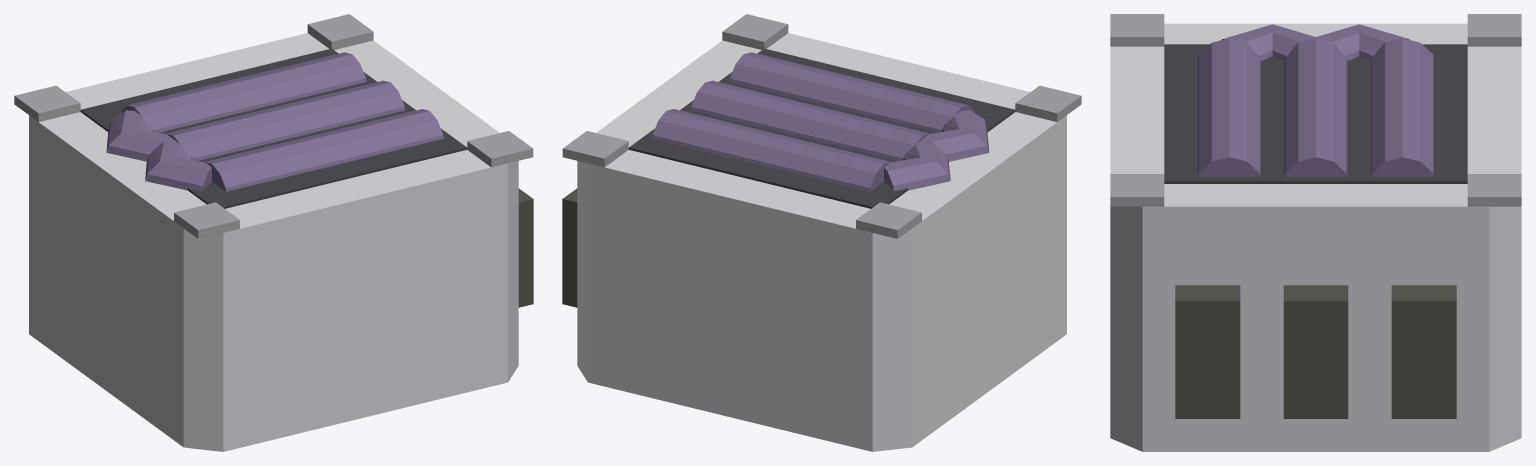
The model's file is vge_astrofuel_pod_launcher.obj.
3 views of the same model, side by side, from view 1: azimuth 30°, elevation 25°; view 2: azimuth 150°, elevation 25°; view 3: azimuth 270°, elevation 25° (orthographic). The views are drawn at different scales.
Parts seen in each view (by area): view 1: vge_astrofuel_pod_launcher_0, vge_astrofuel_pod_launcher_1, vge_astrofuel_pod_launcher_6, vge_astrofuel_pod_launcher_8, vge_astrofuel_pod_launcher_7, vge_astrofuel_pod_launcher_9, vge_astrofuel_pod_launcher_10, vge_astrofuel_pod_launcher_11, vge_astrofuel_pod_launcher_3, vge_astrofuel_pod_launcher_4, vge_astrofuel_pod_launcher_5, vge_astrofuel_pod_launcher_2; view 2: vge_astrofuel_pod_launcher_0, vge_astrofuel_pod_launcher_1, vge_astrofuel_pod_launcher_8, vge_astrofuel_pod_launcher_6, vge_astrofuel_pod_launcher_7, vge_astrofuel_pod_launcher_10, vge_astrofuel_pod_launcher_9, vge_astrofuel_pod_launcher_13, vge_astrofuel_pod_launcher_2, vge_astrofuel_pod_launcher_5, vge_astrofuel_pod_launcher_4, vge_astrofuel_pod_launcher_3; view 3: vge_astrofuel_pod_launcher_0, vge_astrofuel_pod_launcher_1, vge_astrofuel_pod_launcher_11, vge_astrofuel_pod_launcher_12, vge_astrofuel_pod_launcher_13, vge_astrofuel_pod_launcher_7, vge_astrofuel_pod_launcher_8, vge_astrofuel_pod_launcher_6, vge_astrofuel_pod_launcher_2, vge_astrofuel_pod_launcher_3, vge_astrofuel_pod_launcher_4, vge_astrofuel_pod_launcher_5 (+2 smaller).
Boxes of the visible parts, <box> form: vge_astrofuel_pod_launcher_0: <box>29,33,518,451</box>; vge_astrofuel_pod_launcher_1: <box>80,48,467,208</box>; vge_astrofuel_pod_launcher_6: <box>204,109,443,191</box>; vge_astrofuel_pod_launcher_8: <box>121,52,366,132</box>; vge_astrofuel_pod_launcher_7: <box>165,80,404,160</box>; vge_astrofuel_pod_launcher_9: <box>145,138,211,190</box>; vge_astrofuel_pod_launcher_10: <box>106,110,172,161</box>; vge_astrofuel_pod_launcher_11: <box>518,188,533,307</box>; vge_astrofuel_pod_launcher_3: <box>14,85,80,121</box>; vge_astrofuel_pod_launcher_4: <box>467,131,533,167</box>; vge_astrofuel_pod_launcher_5: <box>307,14,373,49</box>; vge_astrofuel_pod_launcher_2: <box>174,202,239,238</box>; vge_astrofuel_pod_launcher_0: <box>577,33,1066,451</box>; vge_astrofuel_pod_launcher_1: <box>628,48,1015,208</box>; vge_astrofuel_pod_launcher_8: <box>652,109,891,191</box>; vge_astrofuel_pod_launcher_6: <box>729,52,974,132</box>; vge_astrofuel_pod_launcher_7: <box>691,80,930,160</box>; vge_astrofuel_pod_launcher_10: <box>884,139,950,190</box>; vge_astrofuel_pod_launcher_9: <box>923,110,989,161</box>; vge_astrofuel_pod_launcher_13: <box>562,188,577,307</box>; vge_astrofuel_pod_launcher_2: <box>1015,85,1081,121</box>; vge_astrofuel_pod_launcher_5: <box>562,131,628,167</box>; vge_astrofuel_pod_launcher_4: <box>722,14,788,49</box>; vge_astrofuel_pod_launcher_3: <box>856,202,921,238</box>; vge_astrofuel_pod_launcher_0: <box>1110,23,1521,451</box>; vge_astrofuel_pod_launcher_1: <box>1164,44,1467,183</box>; vge_astrofuel_pod_launcher_11: <box>1175,285,1240,418</box>; vge_astrofuel_pod_launcher_12: <box>1283,285,1348,418</box>; vge_astrofuel_pod_launcher_13: <box>1391,285,1456,418</box>; vge_astrofuel_pod_launcher_7: <box>1284,38,1347,176</box>; vge_astrofuel_pod_launcher_8: <box>1371,38,1433,176</box>; vge_astrofuel_pod_launcher_6: <box>1198,38,1260,176</box>; vge_astrofuel_pod_launcher_2: <box>1110,14,1164,46</box>; vge_astrofuel_pod_launcher_3: <box>1467,14,1521,46</box>; vge_astrofuel_pod_launcher_4: <box>1110,174,1164,206</box>; vge_astrofuel_pod_launcher_5: <box>1467,174,1521,206</box>.
Bounding box in the file's own units: 0.87 × 0.545 × 0.76.
